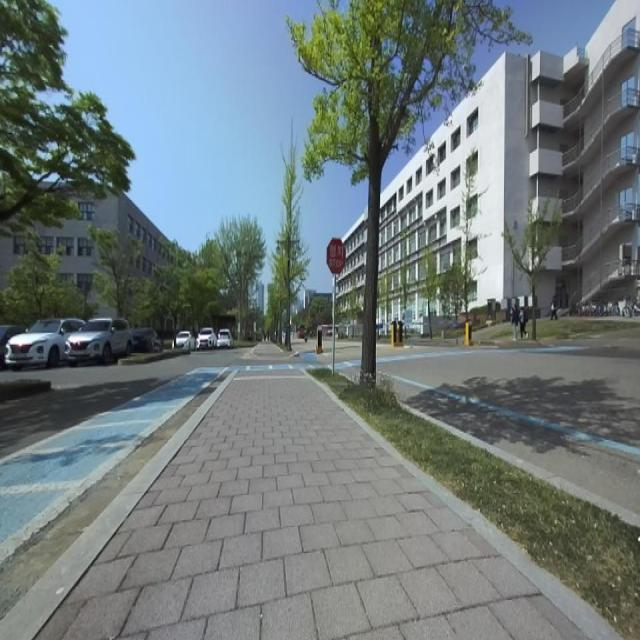sidewalk: (0, 372, 618, 639), (254, 341, 283, 356)
